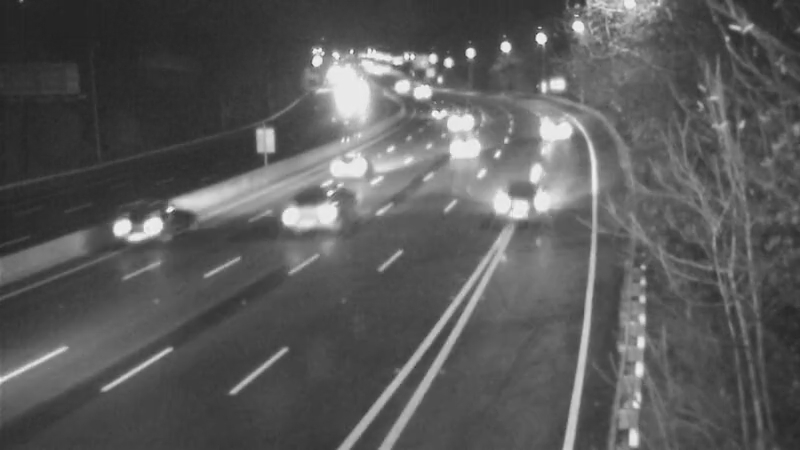vehicle: (304, 128, 384, 208), (472, 163, 552, 243), (268, 172, 348, 252), (99, 186, 179, 266), (376, 66, 426, 116), (395, 66, 445, 116), (410, 92, 460, 142), (436, 95, 486, 145), (527, 101, 577, 151), (443, 118, 493, 168), (322, 78, 372, 128)
